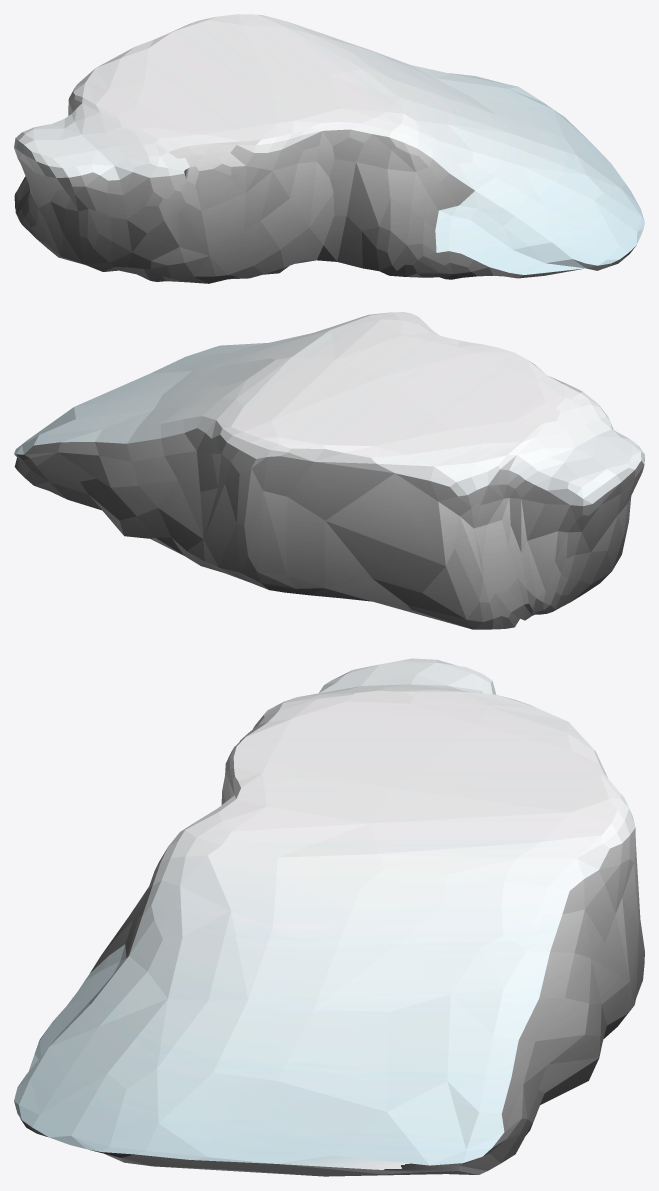
3 views of the same model, one above another, from view 1: azimuth 30°, elevation 25°; view 2: azimuth 150°, elevation 25°; view 3: azimuth 270°, elevation 25° (orthographic). The views are drawn at different scales.
Parts seen in each view (by area): view 1: BigCliff; view 2: BigCliff; view 3: BigCliff.
Part boxes in pixels (bbox=[...]): BigCliff: bbox=[14, 14, 644, 283]; BigCliff: bbox=[14, 312, 644, 629]; BigCliff: bbox=[14, 658, 644, 1176].
Size of the model in its own units: 150 by 36.98 by 109.
Materials: 1 (1 with a texture image).
